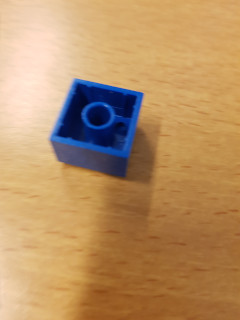2x2 blue: (47, 76, 145, 179)
